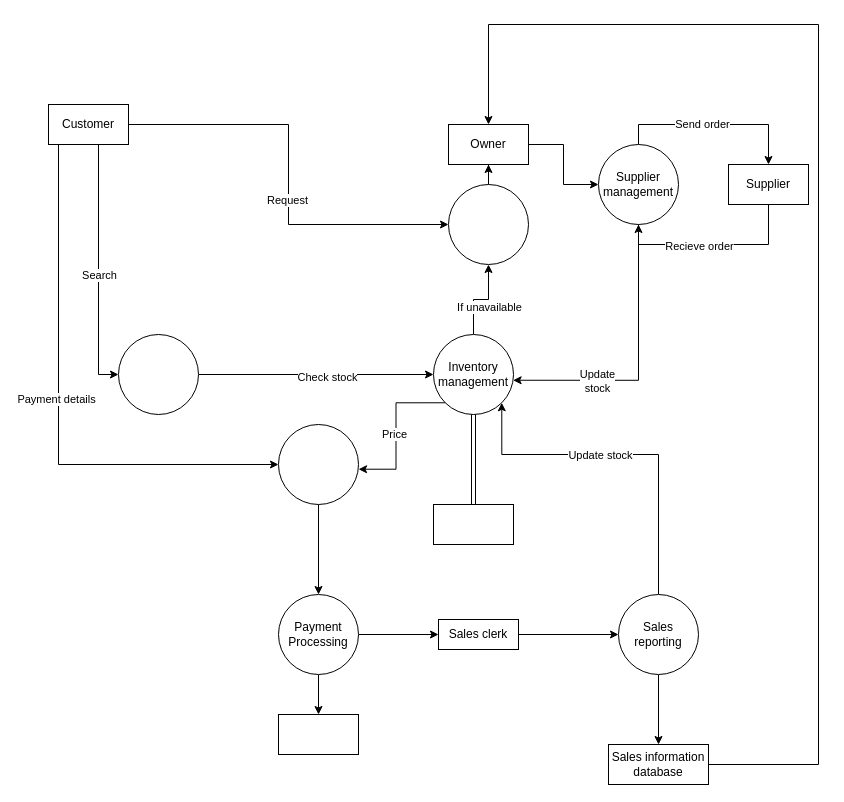
This 844x802 diagram has some shape labels left out. The centre of each missing label's shape, as x and y in pixels:
"Book Search" belongs at (x=158, y=374).
"Inventory database" belongs at (x=473, y=524).
"Payment gateway" belongs at (x=318, y=734).
"Request Mangement" belongs at (x=488, y=224).
"Sales processing" belongs at (x=318, y=464).
